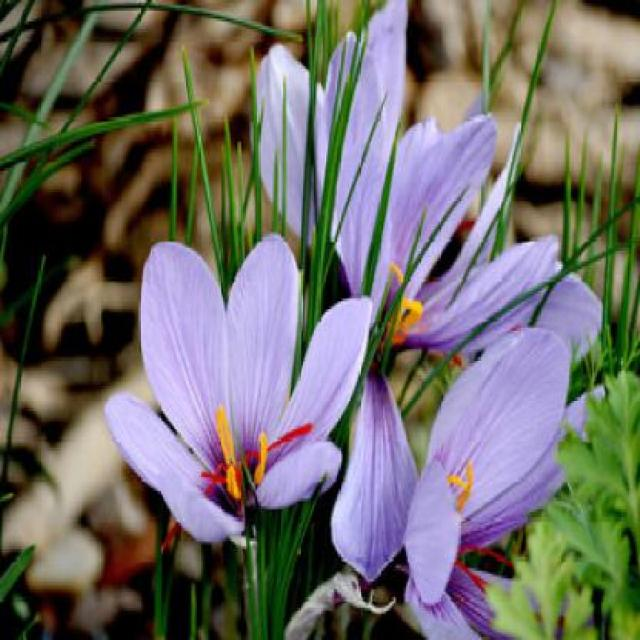Flower: (254, 0, 560, 346), (104, 232, 375, 542), (402, 327, 616, 602)
stigma: (241, 420, 316, 468), (458, 542, 511, 567), (456, 563, 490, 594), (202, 462, 232, 497)
